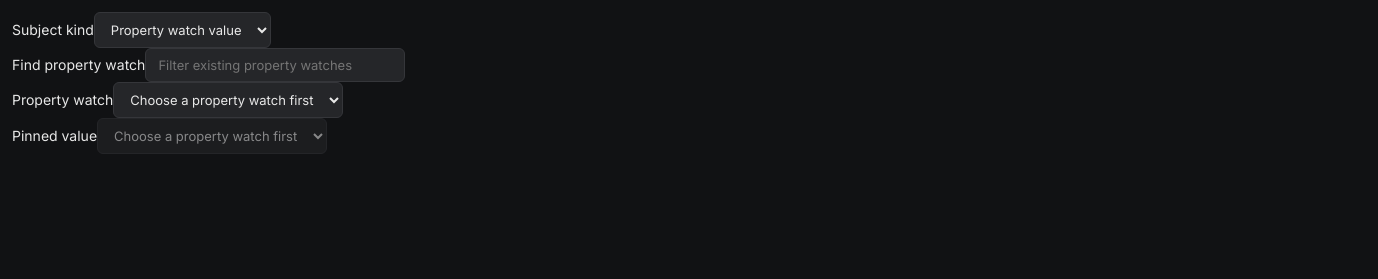
Test case: custom-rule subject picker › states the figure from the PROPERTY_WATCH cadence in the catalog
Select "VPN usernames" in the dropdown labelled "Property watch" at (228, 100), box 113,82 -> 343,118
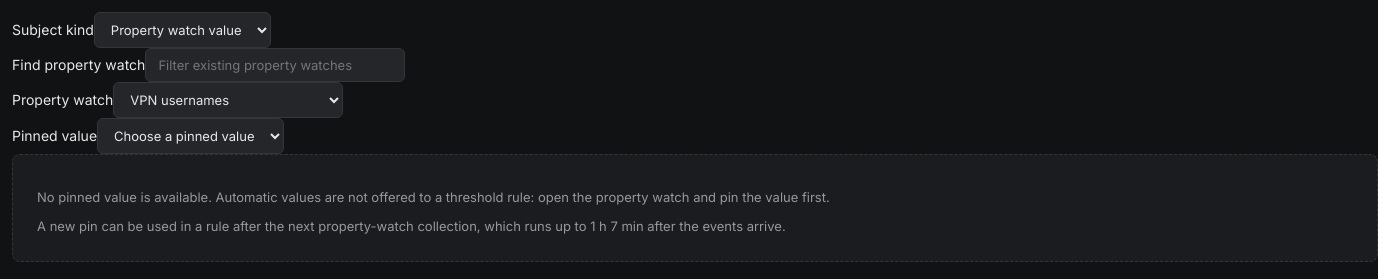
Result: the text "which runs up to 1 h 7 min after the events arrive" is shown at 37,218 -> 786,234
